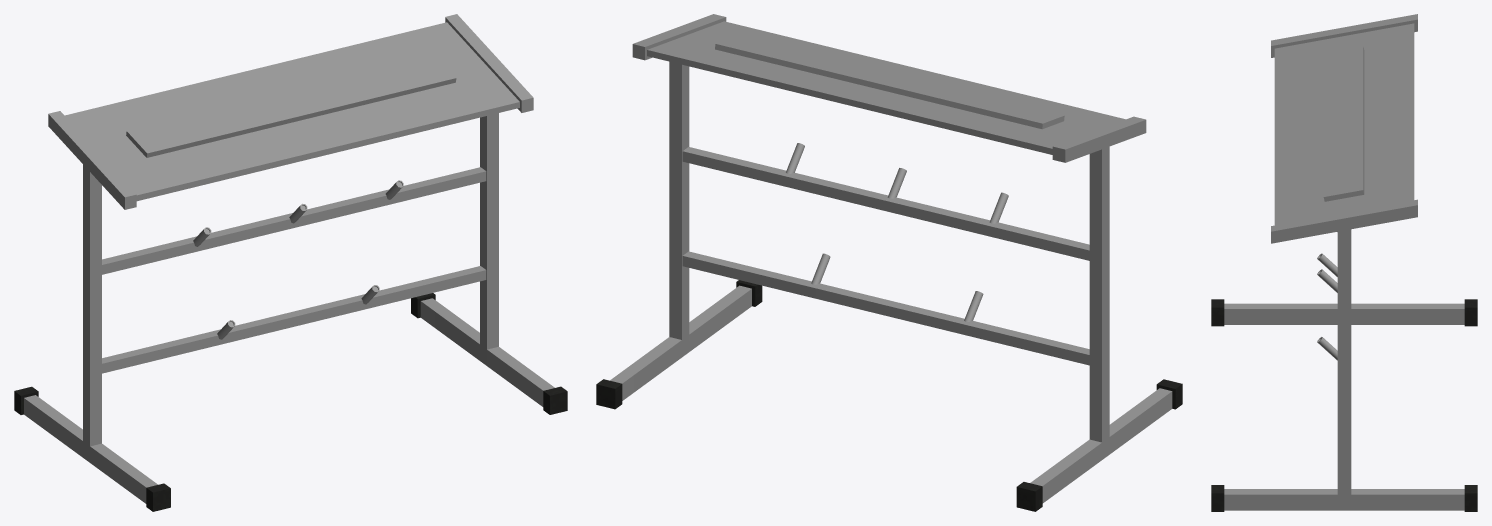
Rendered from dumbbell-rack.glb.
3 views of the same model, side by side, from view 1: azimuth 30°, elevation 25°; view 2: azimuth 150°, elevation 25°; view 3: azimuth 270°, elevation 25° (orthographic). The views are drawn at different scales.
Parts seen in each view (by area): view 1: weight_rack_gym_environment_0; view 2: weight_rack_gym_environment_0; view 3: weight_rack_gym_environment_0.
Part boxes in pixels (x1,y1,x2,y2): weight_rack_gym_environment_0: [14, 14, 567, 511]; weight_rack_gym_environment_0: [596, 14, 1182, 511]; weight_rack_gym_environment_0: [1211, 14, 1477, 511].
Size of the model in its own units: 1.72 by 1.27 by 0.9999.
Materials: 1 (1 with a texture image).
